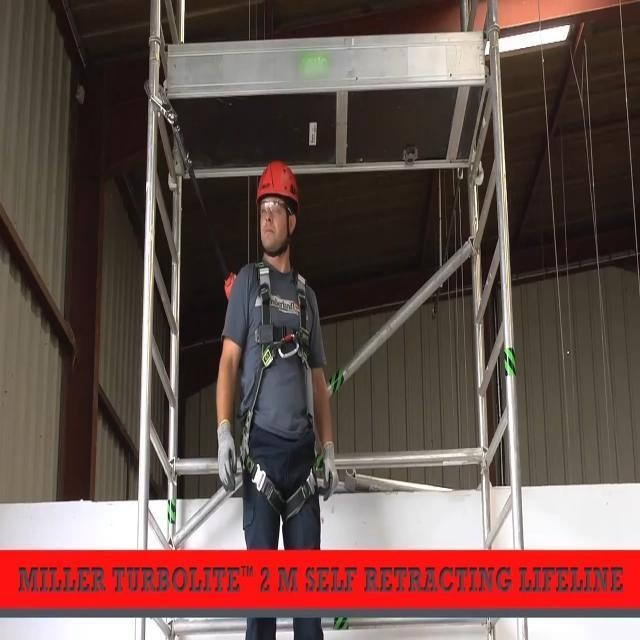Arnes_seguridad: (239, 247, 322, 530)
